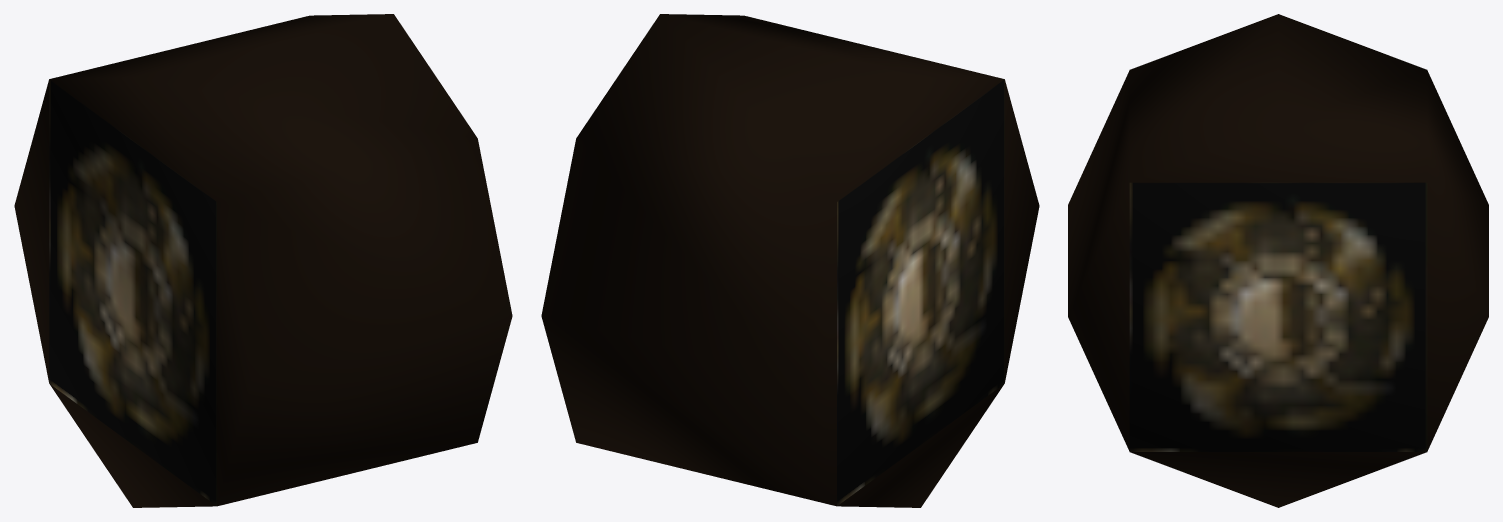
Rendered from WheelFrontL.obj.
3 renders of one model, left to right at view 1: azimuth 30°, elevation 25°; view 2: azimuth 150°, elevation 25°; view 3: azimuth 270°, elevation 25°, orthographic. The views are drawn at different scales.
Visible parts, largest first — view 1: WheelFrontL; view 2: WheelFrontL; view 3: WheelFrontL.
Part boxes in pixels (<box>): WheelFrontL: <box>14,14,512,507</box>; WheelFrontL: <box>541,14,1039,507</box>; WheelFrontL: <box>1068,14,1488,507</box>.
Size of the model in its own units: 0.7403 by 1.17 by 1.17.
2 materials, 1 textured.
